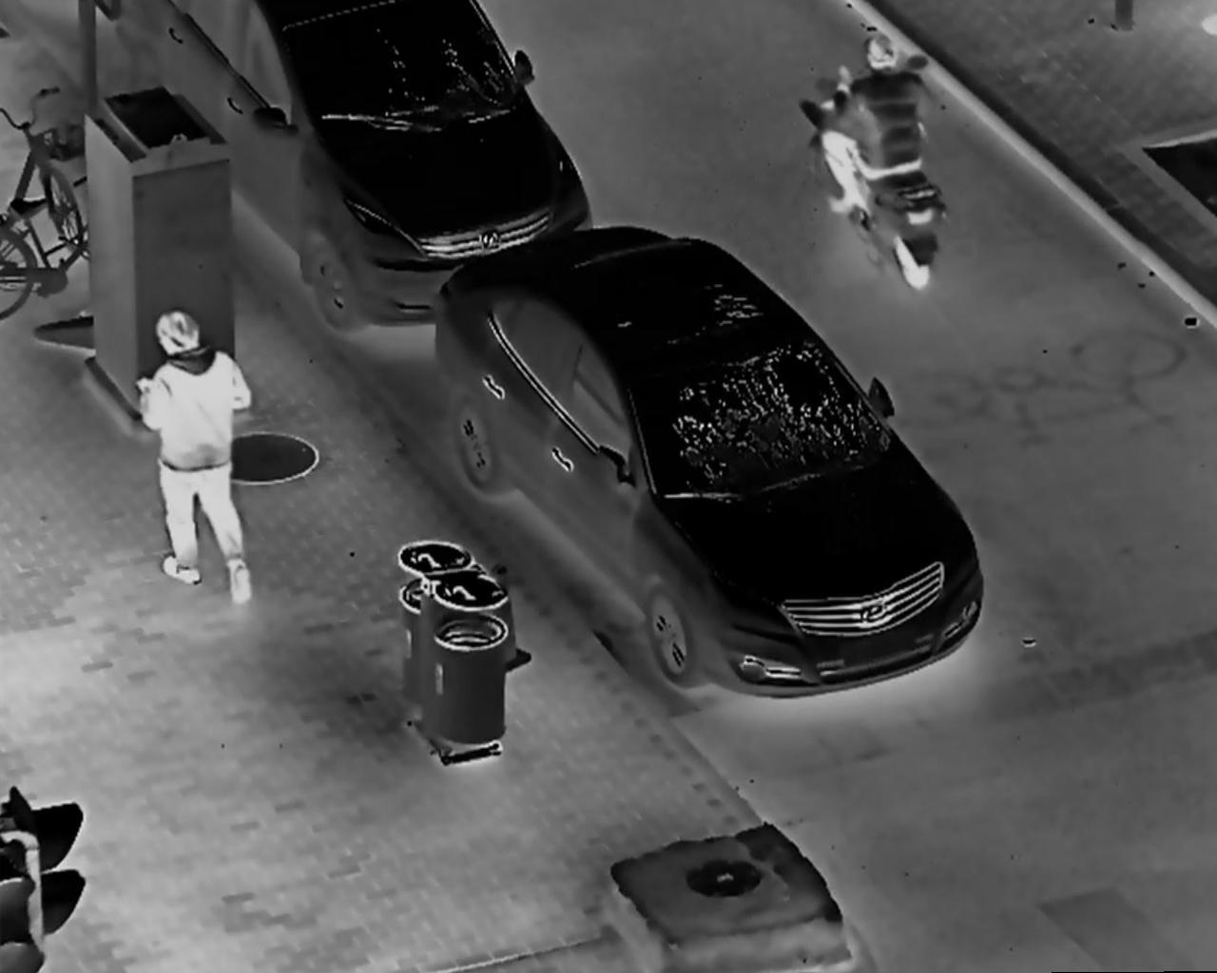person: (126, 308, 278, 615), (802, 24, 942, 228)
